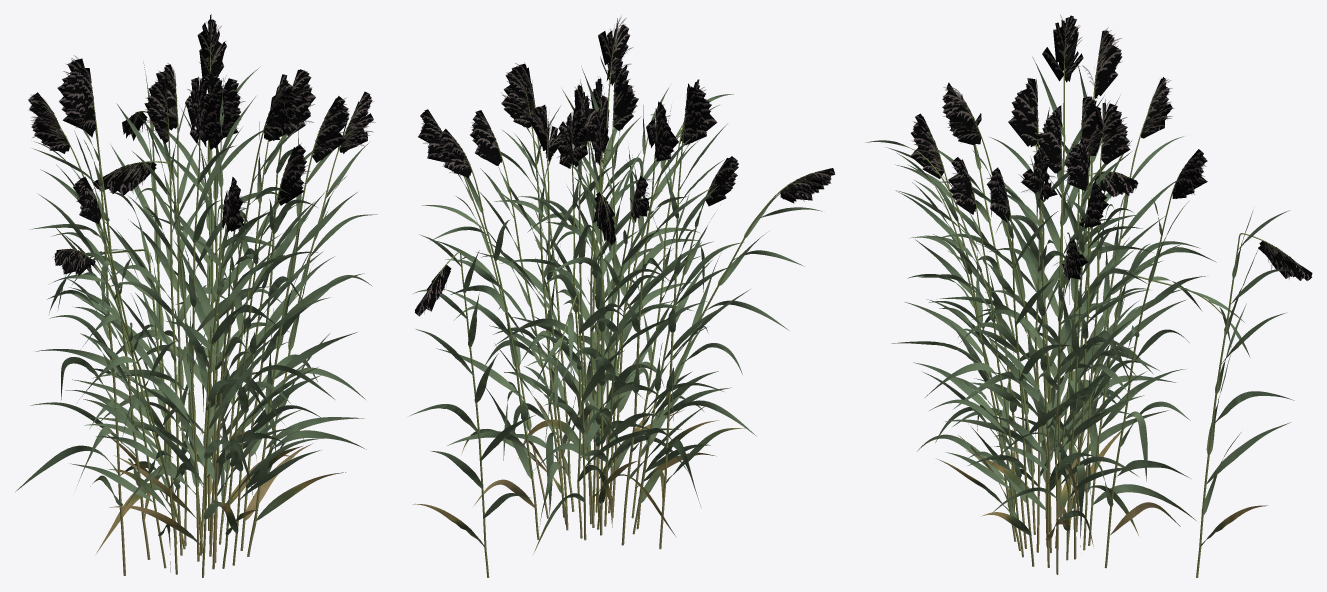
Rendered from reed_01.glb.
3 views of the same model, side by side, from view 1: azimuth 30°, elevation 25°; view 2: azimuth 150°, elevation 25°; view 3: azimuth 270°, elevation 25° (orthographic). The views are drawn at different scales.
Visible parts, largest first — view 1: Phragmites_australis_HD; view 2: Phragmites_australis_HD; view 3: Phragmites_australis_HD.
Boxes of the visible parts, x1,y1,x2,y2 form: Phragmites_australis_HD: [15, 14, 377, 577]; Phragmites_australis_HD: [409, 15, 835, 577]; Phragmites_australis_HD: [866, 15, 1312, 577].
Bounding box in the file's own units: 0.7677 × 1 × 0.8236.
4 materials, 4 textured.
